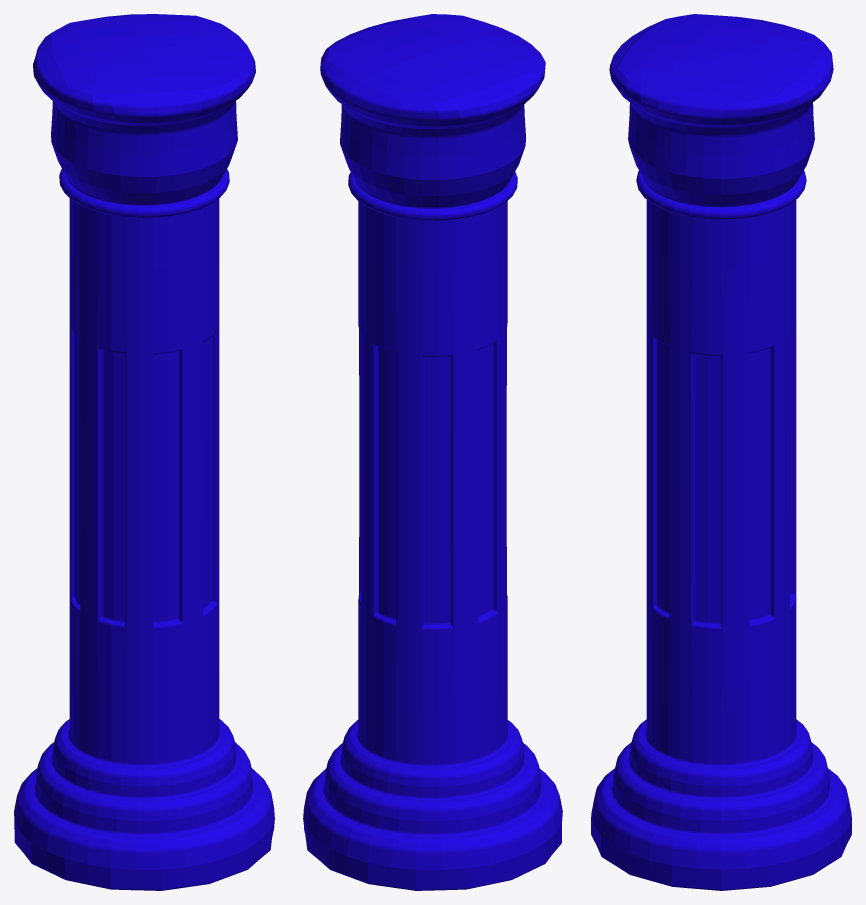
Rendered from pilaar_low (1).fbx.
The picture shows the model from 3 angles, left to right: view 1: azimuth 30°, elevation 25°; view 2: azimuth 150°, elevation 25°; view 3: azimuth 270°, elevation 25°; orthographic projection.
Parts seen in each view (by area): view 1: low; view 2: low; view 3: low.
Part boxes in pixels (left/top/right/bottom): low: left=14, top=14, right=274, bottom=890; low: left=303, top=14, right=562, bottom=890; low: left=591, top=14, right=851, bottom=890.
Bounding box in the file's own units: 336 × 1121 × 336.
